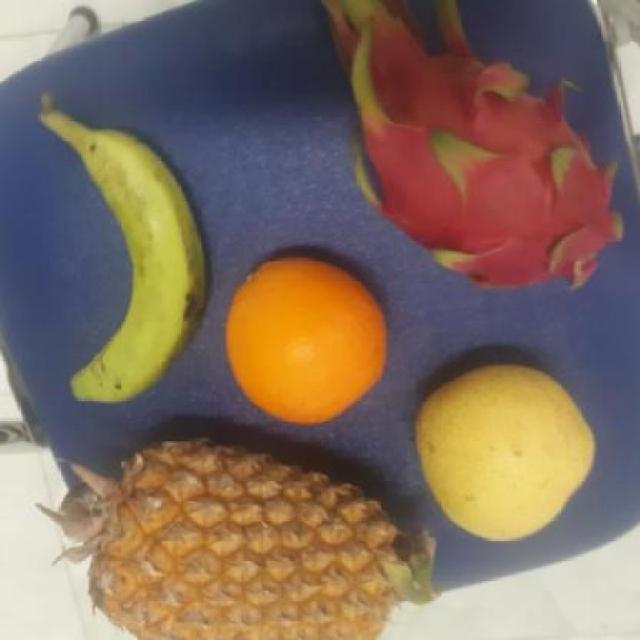banana: (59, 123, 213, 395)
dragon fruit: (353, 64, 635, 287)
guava: (413, 366, 601, 537)
pineapple: (87, 427, 424, 640)
